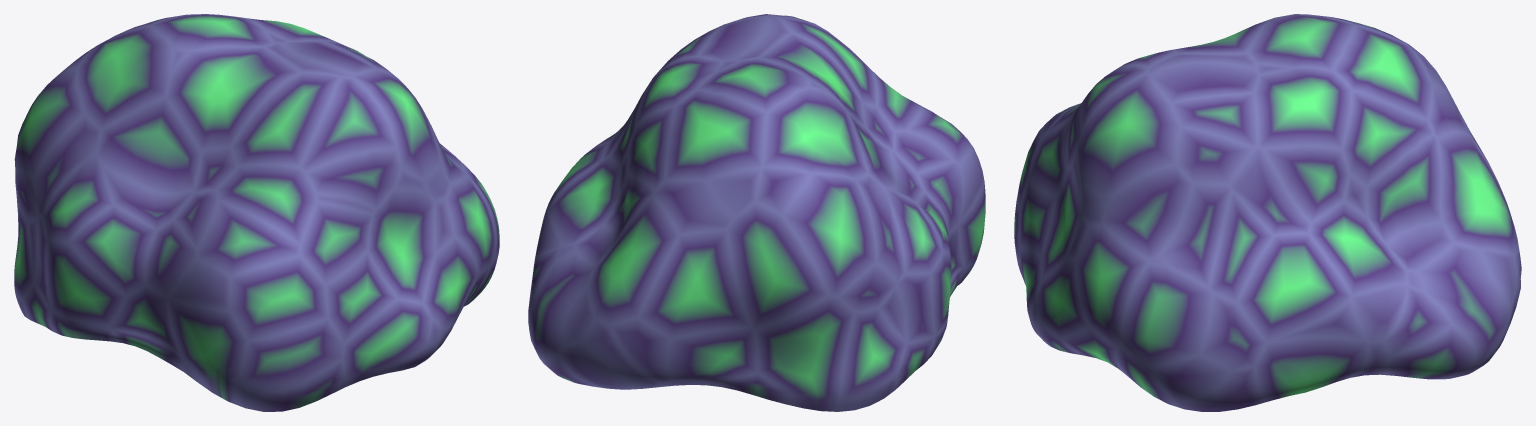
File: BrainCoral.fbx
The picture shows the model from 3 angles, left to right: view 1: azimuth 30°, elevation 25°; view 2: azimuth 150°, elevation 25°; view 3: azimuth 270°, elevation 25°; orthographic projection. The views are drawn at different scales.
Visible parts, largest first — view 1: Brain Coral; view 2: Brain Coral; view 3: Brain Coral.
Boxes of the visible parts, x1,y1,x2,y2 form: Brain Coral: (14, 14, 499, 411); Brain Coral: (528, 14, 985, 411); Brain Coral: (1014, 14, 1521, 411).
Size of the model in its own units: 425 by 284 by 458.
1 material, 1 textured.
